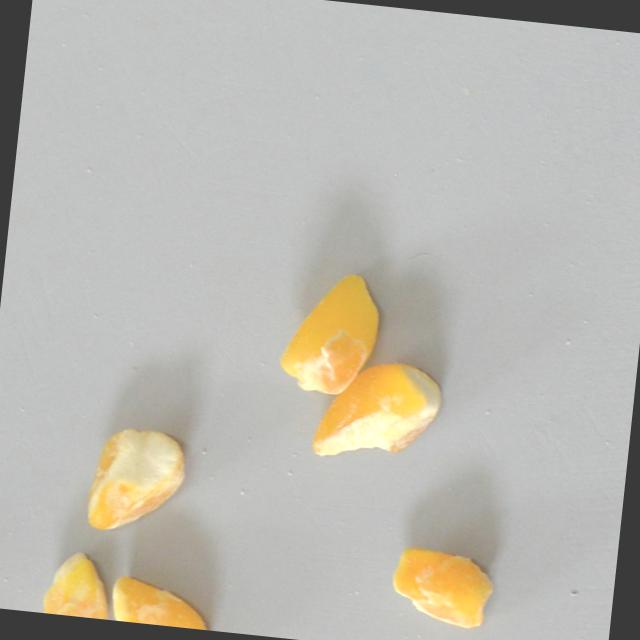dañado: (313, 352, 449, 470), (272, 261, 388, 399), (380, 538, 503, 633), (106, 570, 219, 631), (37, 543, 117, 620)
punto_negro: (81, 418, 193, 537)
